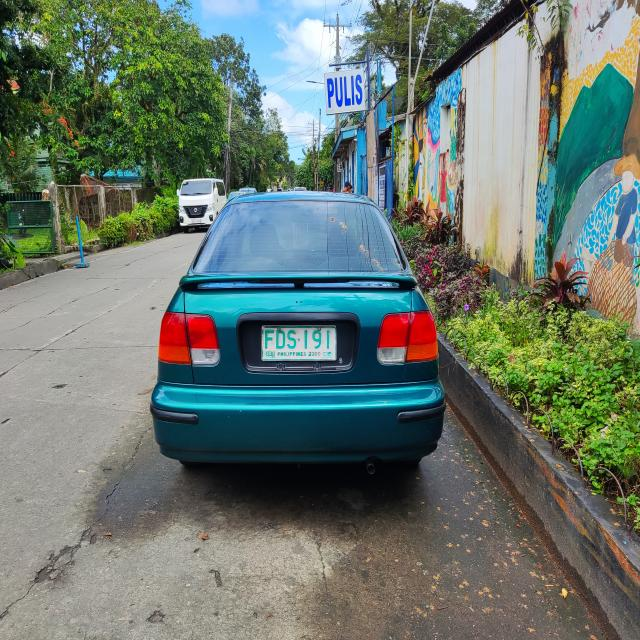plate: (261, 324, 337, 362)
